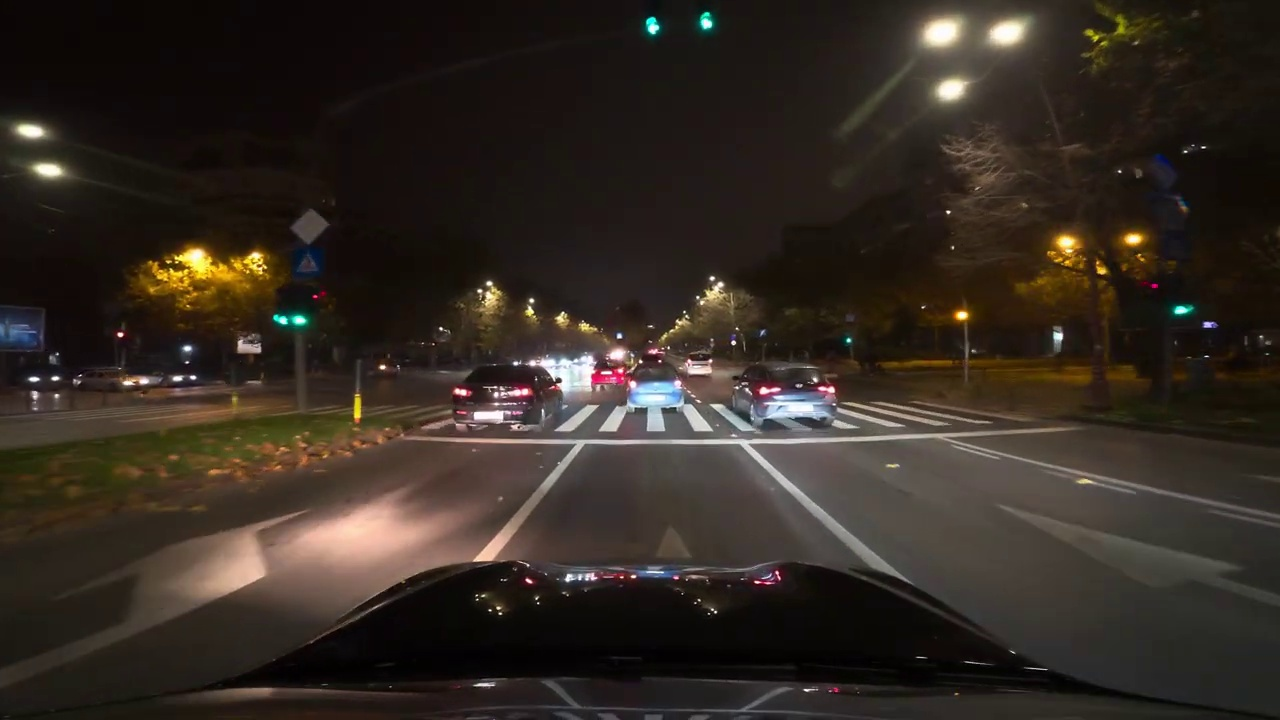acesa: (989, 18, 1027, 50), (923, 17, 960, 48), (932, 75, 968, 105), (292, 211, 325, 241), (1052, 232, 1082, 261), (32, 160, 65, 184), (16, 120, 46, 143), (1120, 228, 1148, 252)
